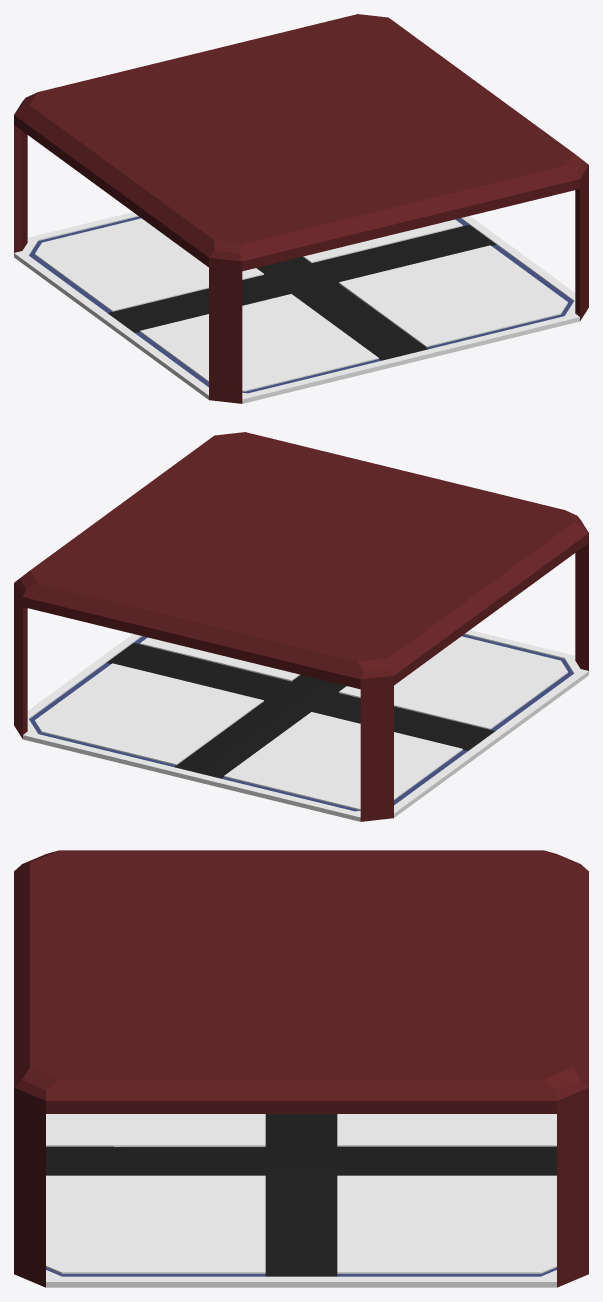
Rendered from 16x16_Frame.glb.
3 renders of one model, top to bottom at view 1: azimuth 30°, elevation 25°; view 2: azimuth 150°, elevation 25°; view 3: azimuth 270°, elevation 25°, orthographic. The views are drawn at different scales.
Parts seen in each view (by area): view 1: Room_Base_Frame_16x16, Room_Floor_Middle_16x16, Room_Floor_Trim_16x16, Room_Ceiling_16x16, Room_Floor_16x16; view 2: Room_Base_Frame_16x16, Room_Floor_Middle_16x16, Room_Floor_Trim_16x16, Room_Ceiling_16x16, Room_Floor_16x16; view 3: Room_Base_Frame_16x16, Room_Floor_Middle_16x16, Room_Floor_Trim_16x16, Room_Ceiling_16x16, Room_Floor_16x16.
Part boxes in pixels (bbox=[...]): Room_Base_Frame_16x16: bbox=[14, 14, 588, 403]; Room_Floor_Middle_16x16: bbox=[14, 212, 579, 403]; Room_Floor_Trim_16x16: bbox=[107, 225, 496, 360]; Room_Ceiling_16x16: bbox=[14, 120, 588, 271]; Room_Floor_16x16: bbox=[29, 216, 573, 393]; Room_Base_Frame_16x16: bbox=[14, 432, 588, 821]; Room_Floor_Middle_16x16: bbox=[23, 630, 588, 821]; Room_Floor_Trim_16x16: bbox=[106, 643, 495, 778]; Room_Ceiling_16x16: bbox=[14, 538, 588, 689]; Room_Floor_16x16: bbox=[29, 634, 573, 811]; Room_Base_Frame_16x16: bbox=[14, 850, 588, 1287]; Room_Floor_Middle_16x16: bbox=[46, 1114, 556, 1287]; Room_Floor_Trim_16x16: bbox=[46, 1114, 556, 1276]; Room_Ceiling_16x16: bbox=[14, 1095, 588, 1113]; Room_Floor_16x16: bbox=[46, 1267, 556, 1276].
Size of the model in its own units: 18 by 6.95 by 18.
